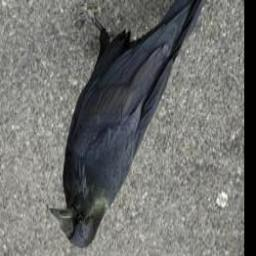Crow: (47, 0, 217, 250)
